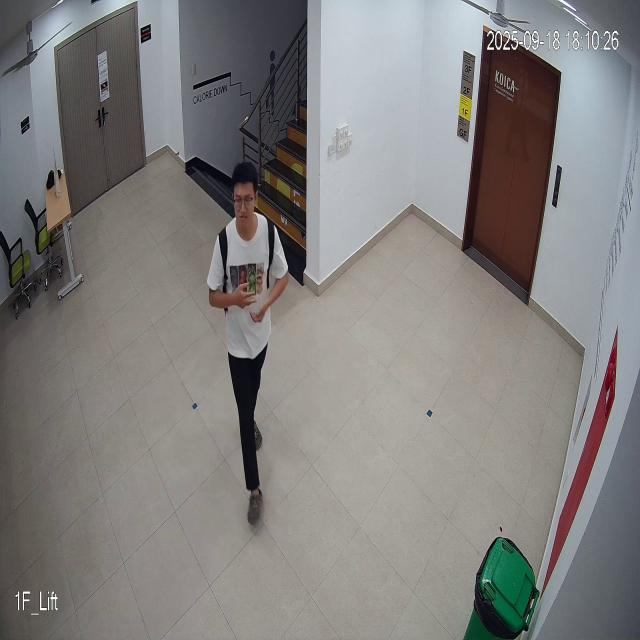face: (231, 160, 260, 231)
